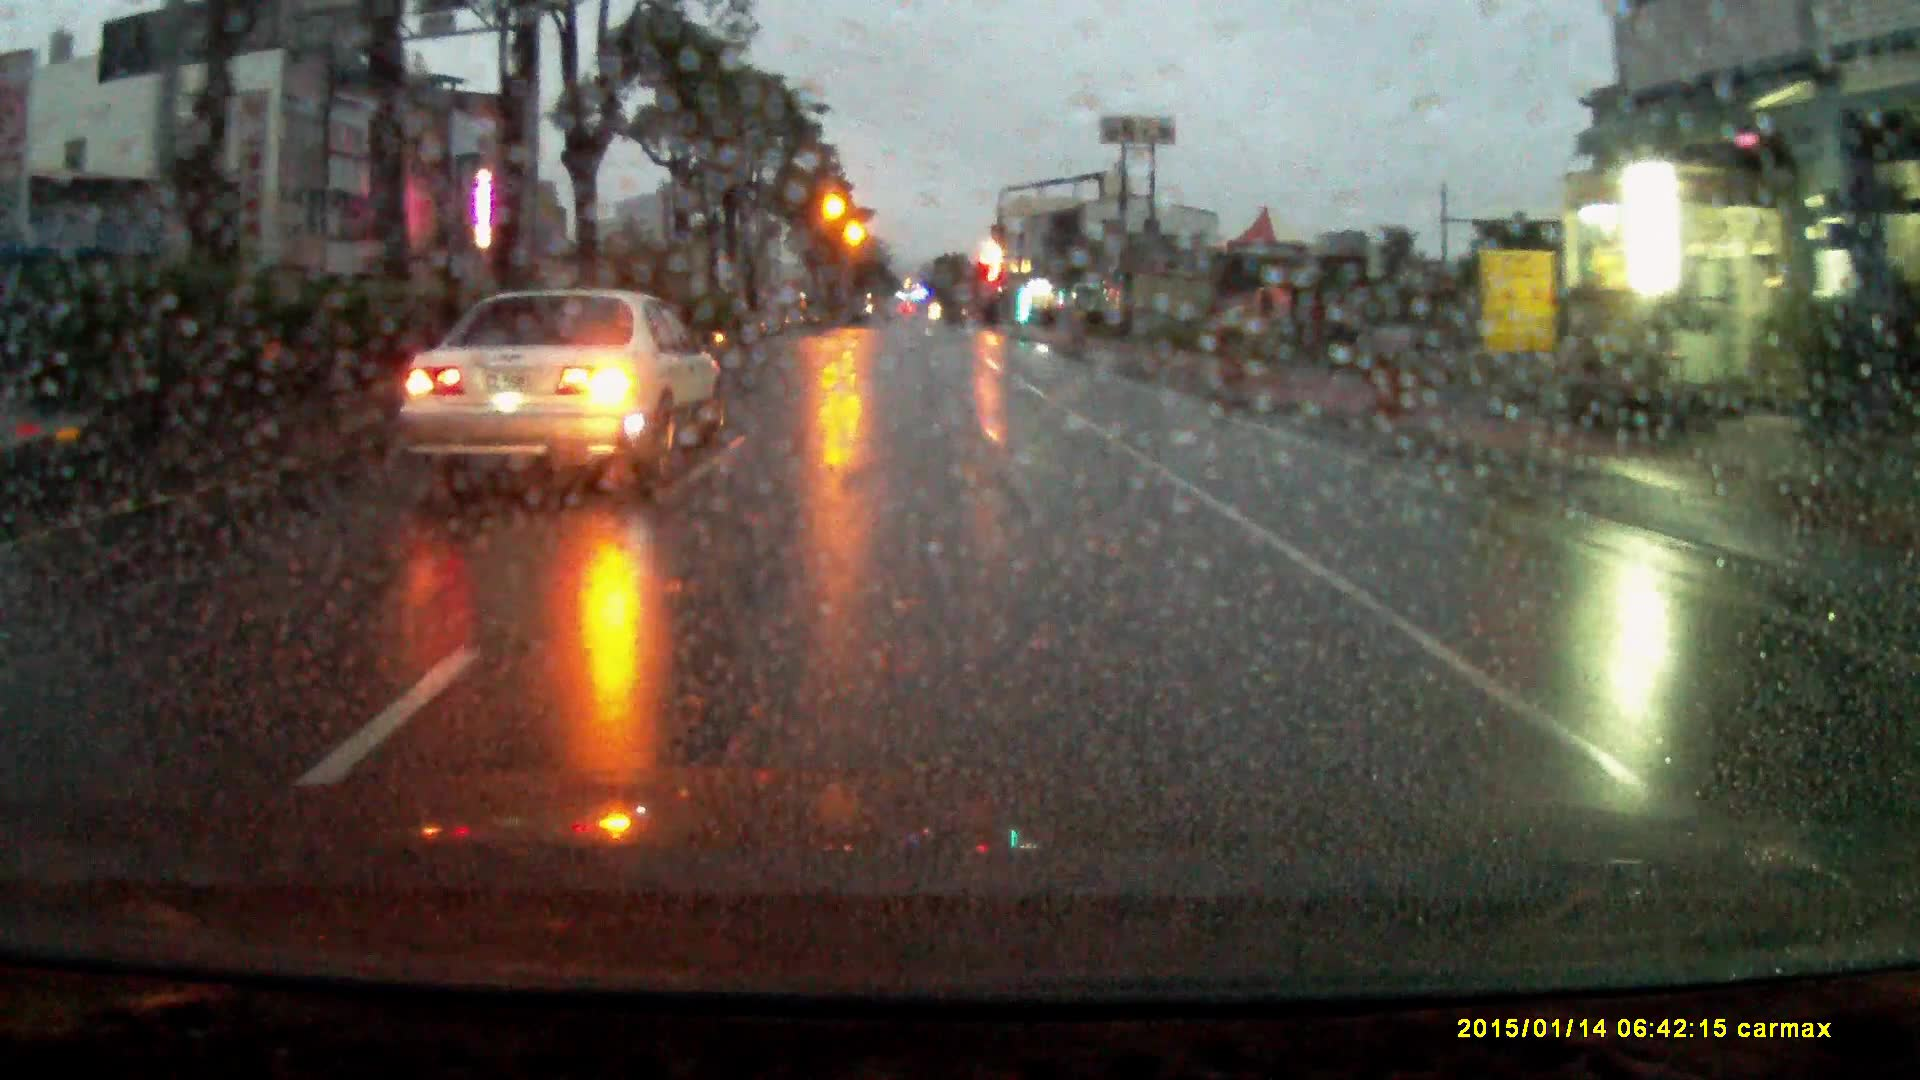vehicle: (398, 289, 733, 502)
